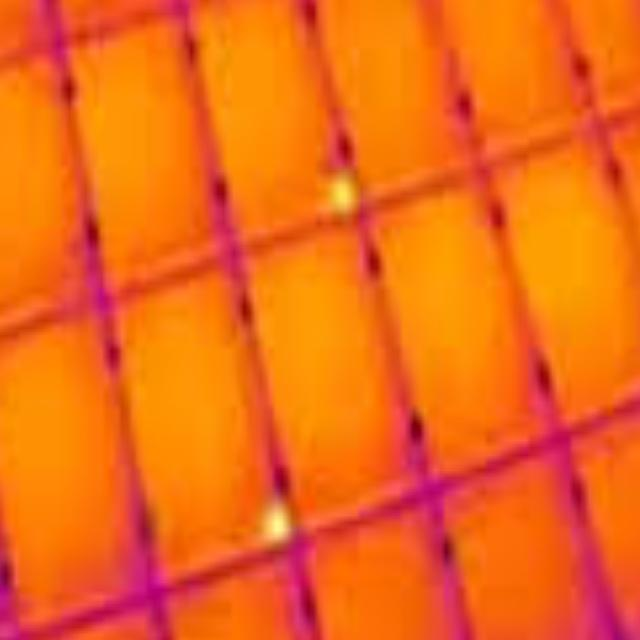hotspot group: (262, 498, 298, 540), (326, 173, 358, 212)
panel with hotspots: (103, 256, 301, 596), (186, 0, 370, 258)
